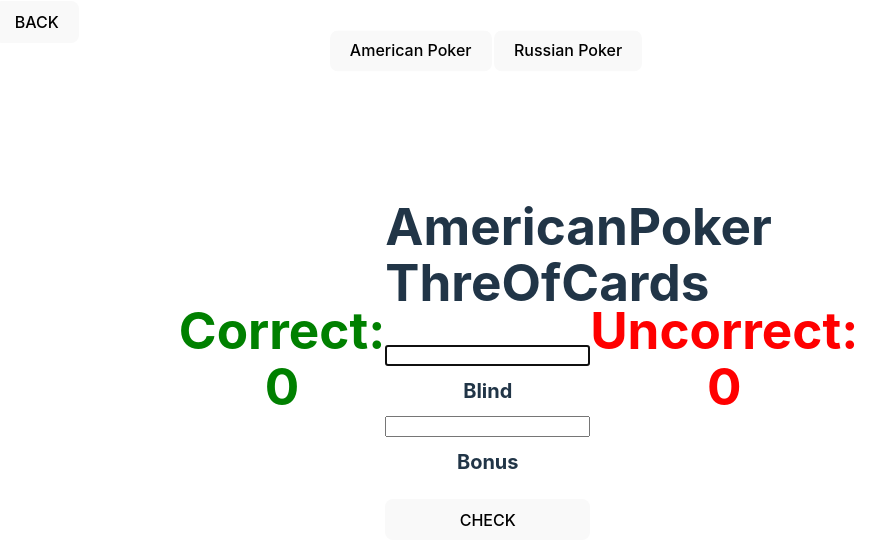
it: testing poker payments american poker
The image size is (872, 543).
Type "0" into the field with id "blindOrAnte" at [488, 356], box [385,345,590,366]
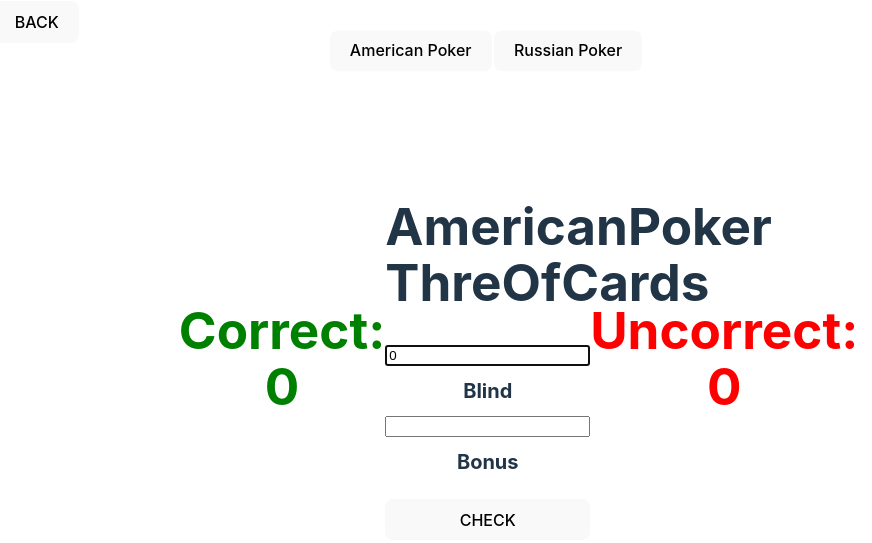
Type "3" into the field with id "bonus" at [488, 426], box [385,416,590,437]
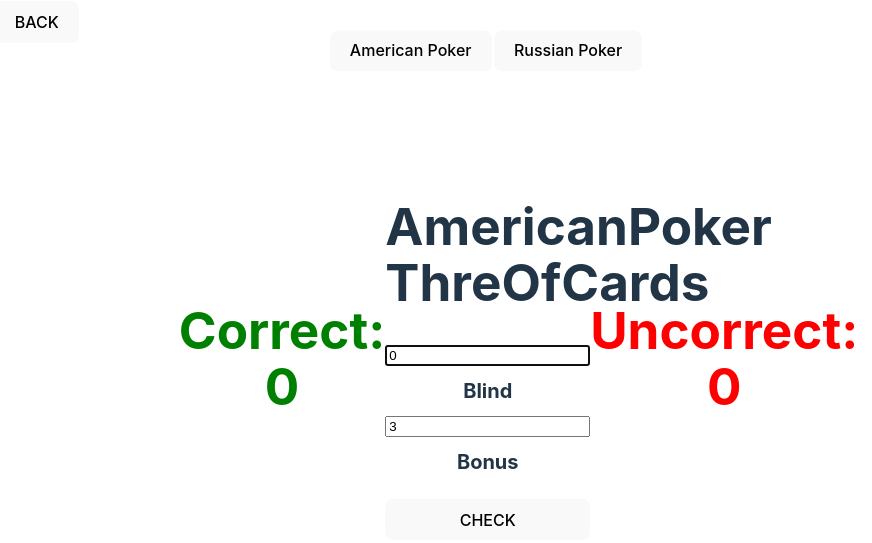
Press Enter in the field with id "bonus", box [385,416,590,437]
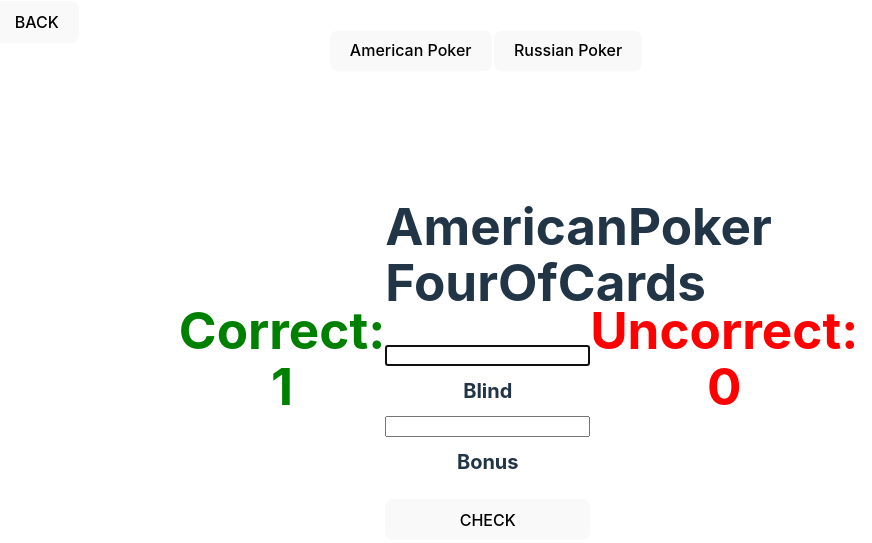
expect the text with id "correctNoumber" reads "1": met, box [271,355,293,417]
